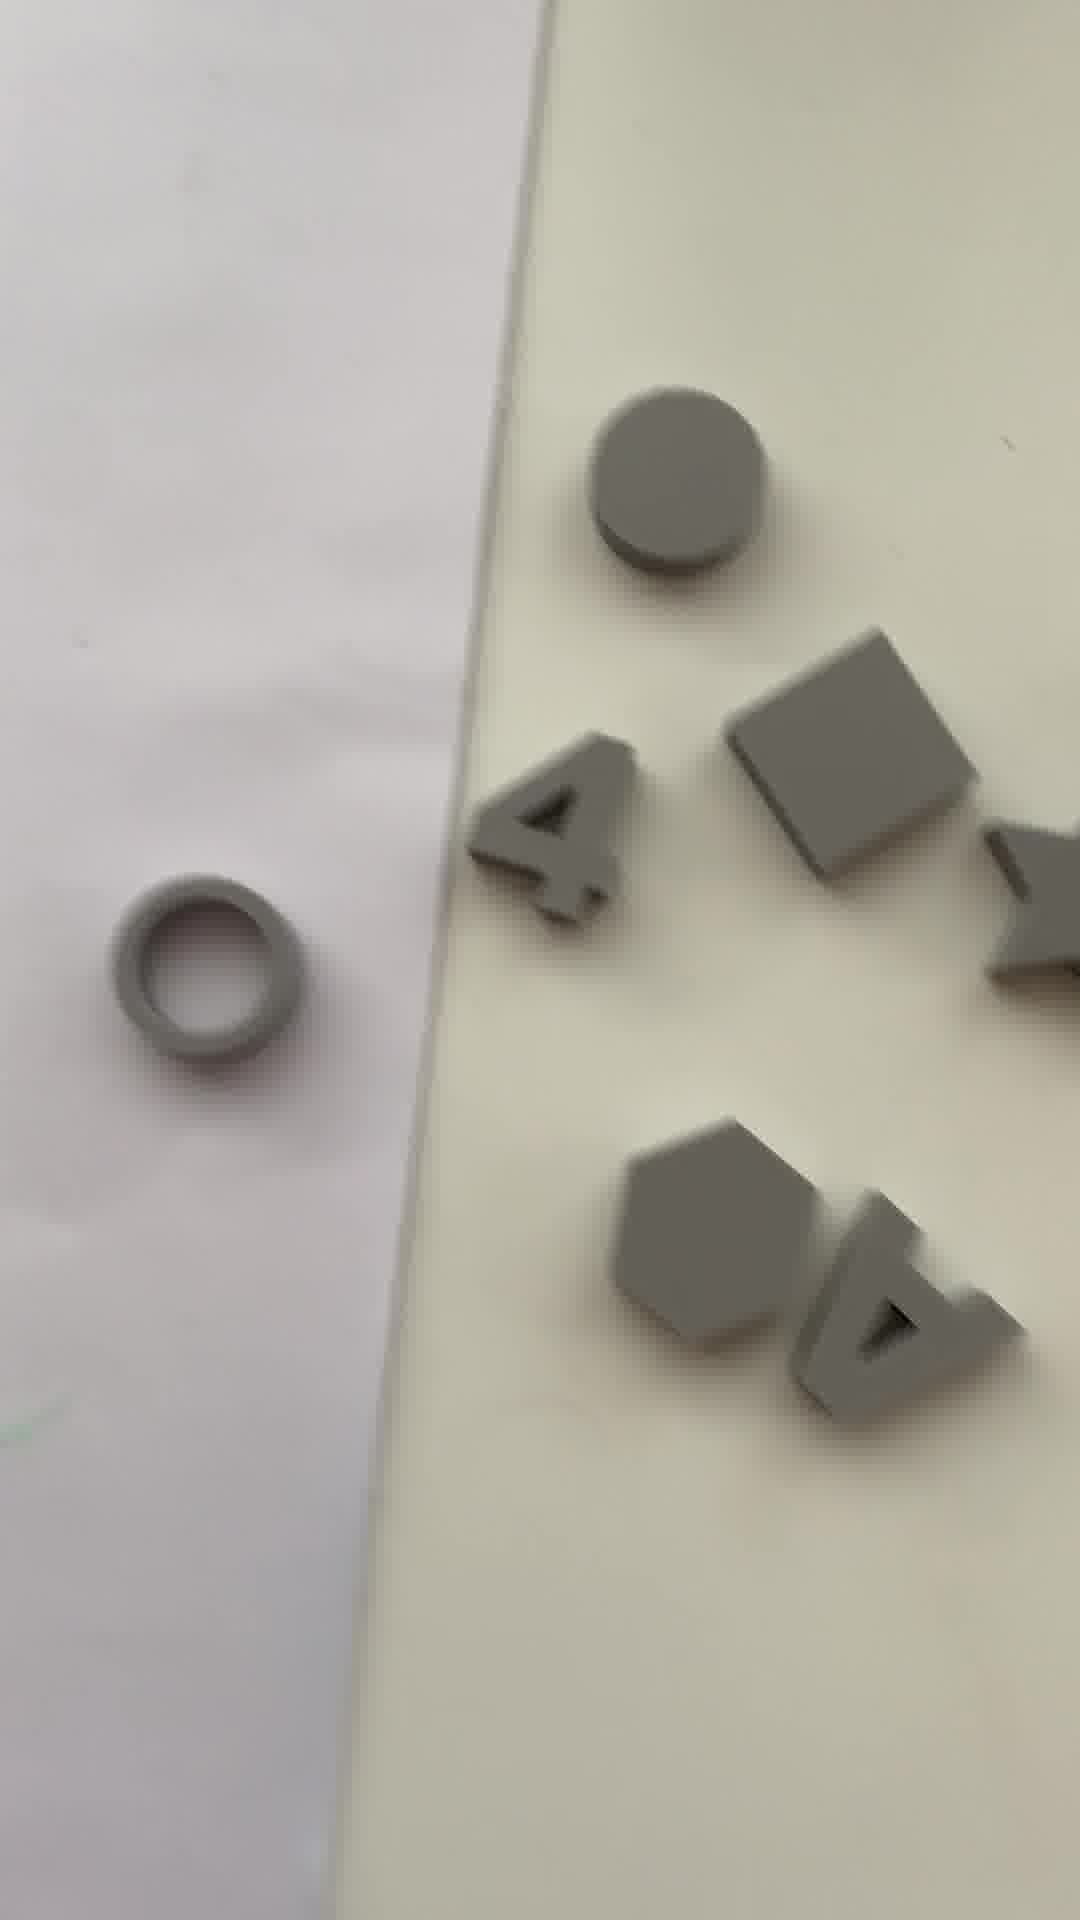Gray A-letter: (778, 1199, 1029, 1437)
Gray circle: (584, 385, 771, 579)
Gray four: (456, 731, 673, 942)
Gray hexagon: (600, 1106, 837, 1361)
Gray ring: (100, 855, 311, 1089)
Gray square: (715, 646, 1002, 891)
Gray star: (976, 803, 1080, 1006)
